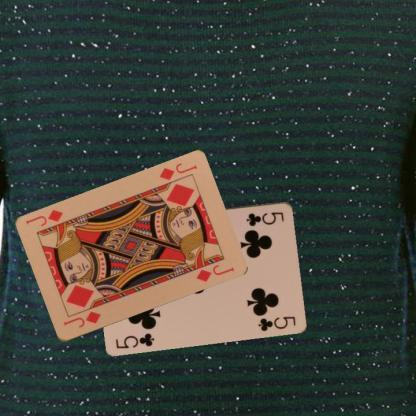5c: (113, 330, 156, 349), (244, 209, 285, 228)
Jd: (61, 309, 102, 330), (157, 161, 198, 182)
